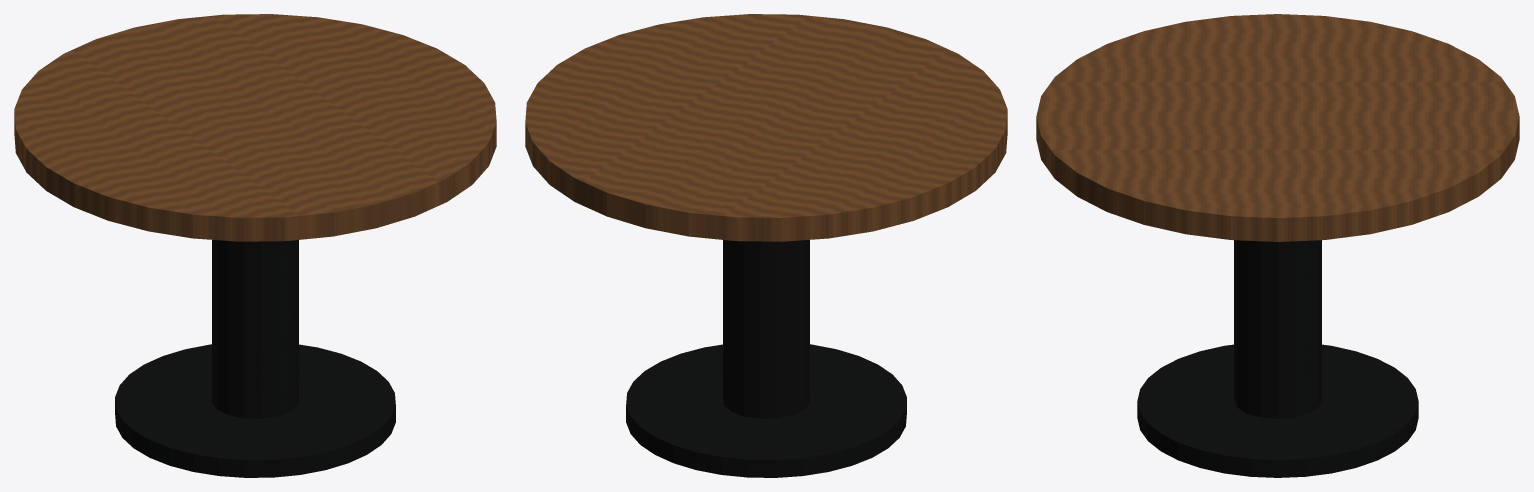
File: table-round_lod1.glb
3 renders of one model, left to right at view 1: azimuth 30°, elevation 25°; view 2: azimuth 150°, elevation 25°; view 3: azimuth 270°, elevation 25°, orthographic.
Visible parts, largest first — view 1: top, base, pedestal; view 2: top, base, pedestal; view 3: top, base, pedestal.
Boxes of the visible parts, box(x1,y1,x2,y2) form: top: box(14, 14, 496, 241); base: box(115, 344, 395, 477); pedestal: box(212, 240, 298, 418); top: box(525, 14, 1007, 241); base: box(626, 344, 906, 477); pedestal: box(723, 240, 809, 418); top: box(1036, 14, 1519, 241); base: box(1137, 344, 1418, 477); pedestal: box(1234, 240, 1321, 418).
Size of the model in its own units: 1.1 by 0.76 by 1.1.
2 materials, 2 textured.
